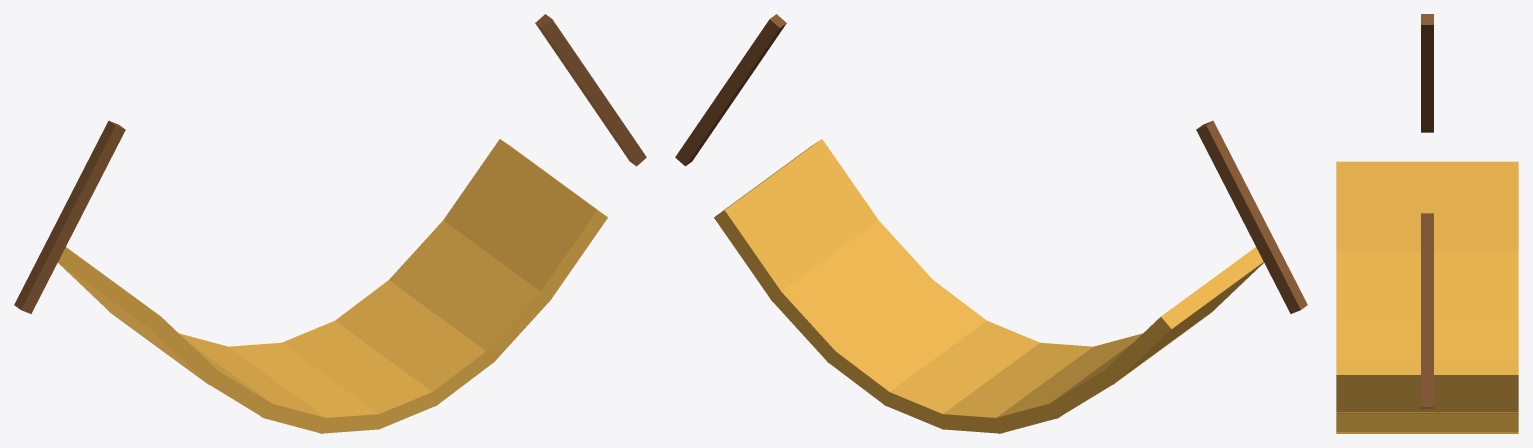
File: hammock.glb
3 views of the same model, side by side, from view 1: azimuth 30°, elevation 25°; view 2: azimuth 150°, elevation 25°; view 3: azimuth 270°, elevation 25° (orthographic). The views are drawn at different scales.
Parts seen in each view (by area): view 1: hammock; view 2: hammock; view 3: hammock.
Boxes of the visible parts, x1=… form: hammock: x1=14, y1=14, x2=646, y2=433; hammock: x1=675, y1=14, x2=1307, y2=433; hammock: x1=1336, y1=14, x2=1518, y2=433.
Size of the model in its own units: 2.59 by 1.28 by 0.7.
